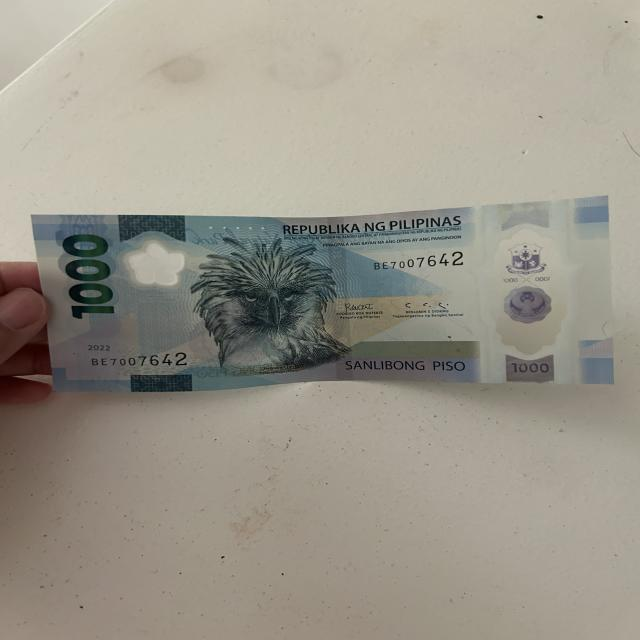clear_window: (480, 211, 570, 385)
sampaguita: (114, 235, 190, 293)
security_thread: (322, 216, 361, 383)
serial_number: (364, 250, 474, 276), (89, 352, 197, 378)
value: (51, 233, 120, 323)
value_watermark: (502, 345, 560, 383)
